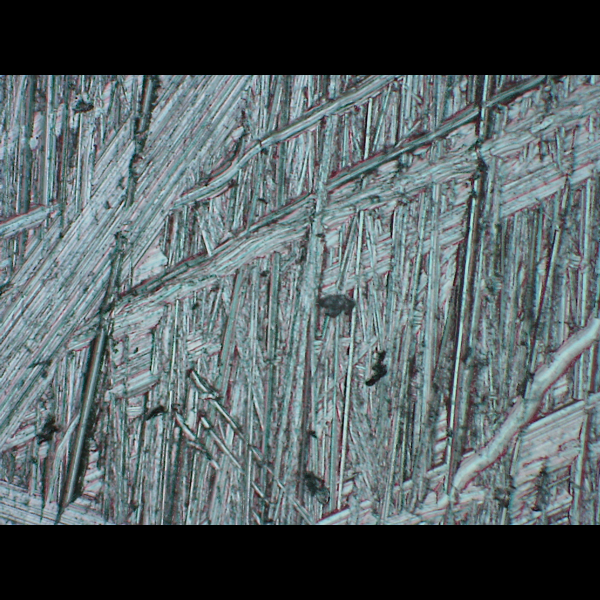d: (10, 76, 599, 525)
